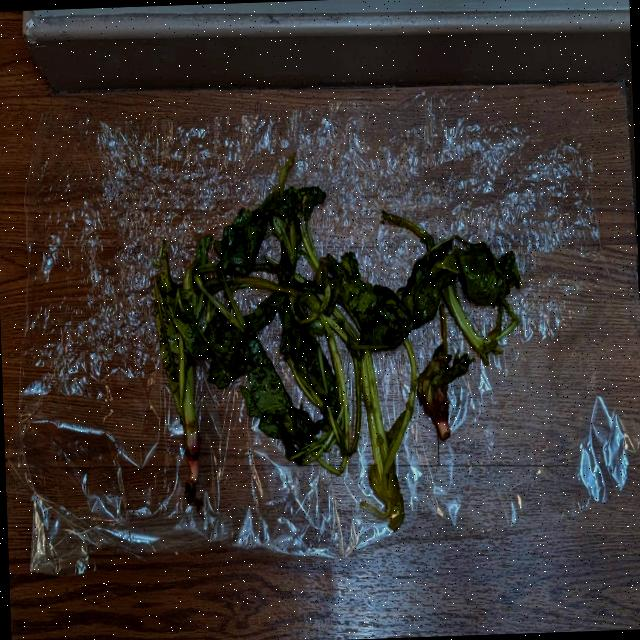rotten spinach: (138, 150, 530, 524), (234, 143, 367, 494), (383, 177, 525, 458), (317, 261, 421, 556), (152, 221, 246, 513)
